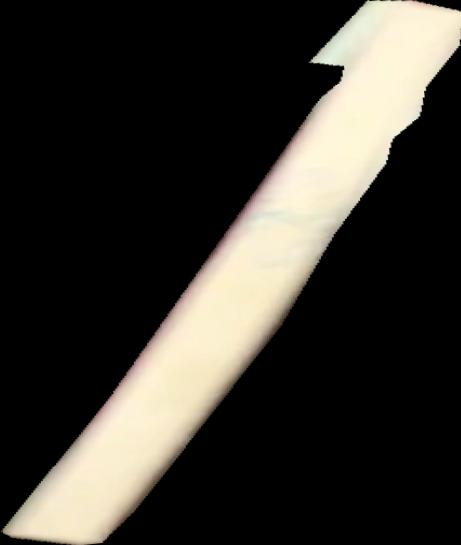backward: (1, 1, 461, 545)
